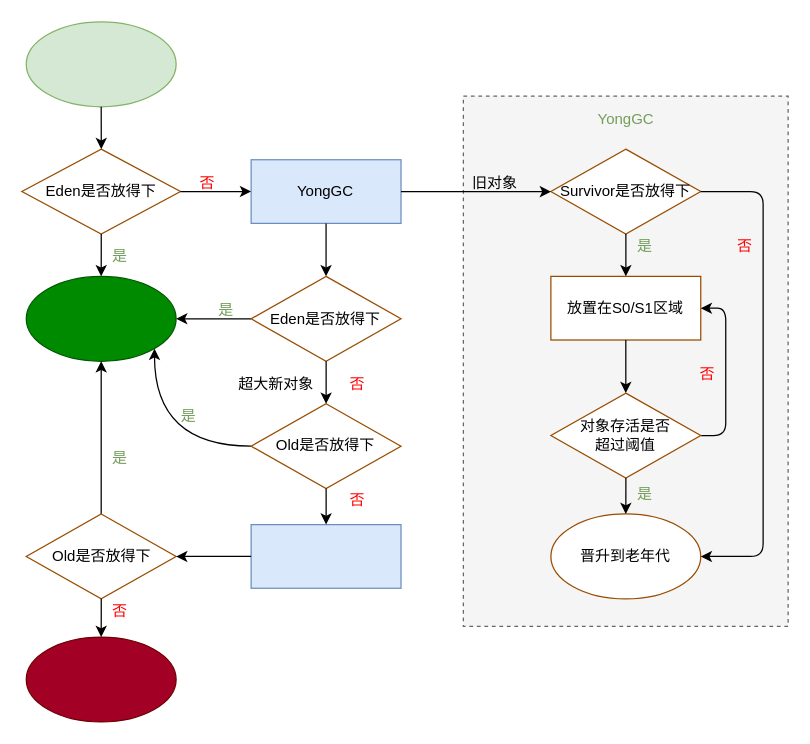
Some shapes in this 810 by 744 pixel diagram are drawn without their labels. The centre of each missing label's shape, as x and y in pixels:
FullGC: (x=325, y=555)
OOM: (x=100, y=679)
分配对象: (x=100, y=318)
新对象申请: (x=100, y=64)
